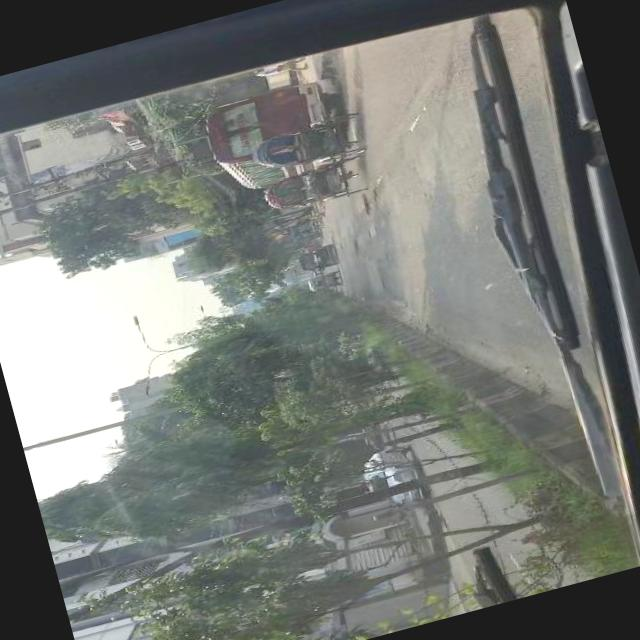bus: (196, 75, 350, 195)
car: (360, 440, 430, 510)
motorcycle: (250, 109, 364, 178), (256, 150, 364, 214), (306, 266, 341, 292)
truck: (296, 242, 334, 272)
